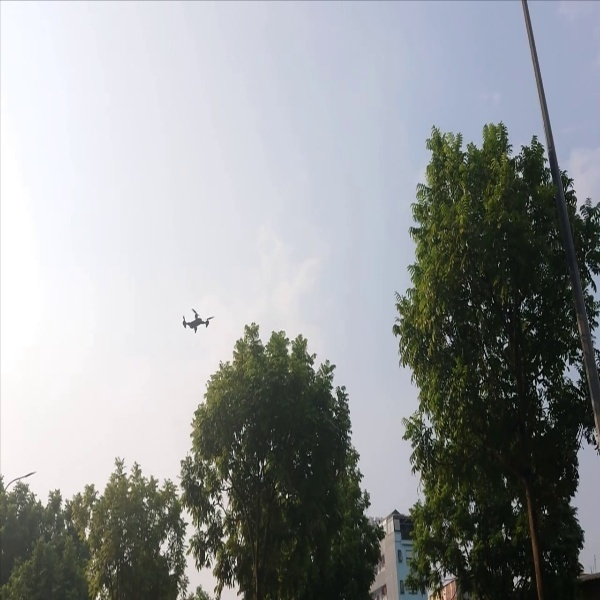drone: (174, 303, 217, 337)
